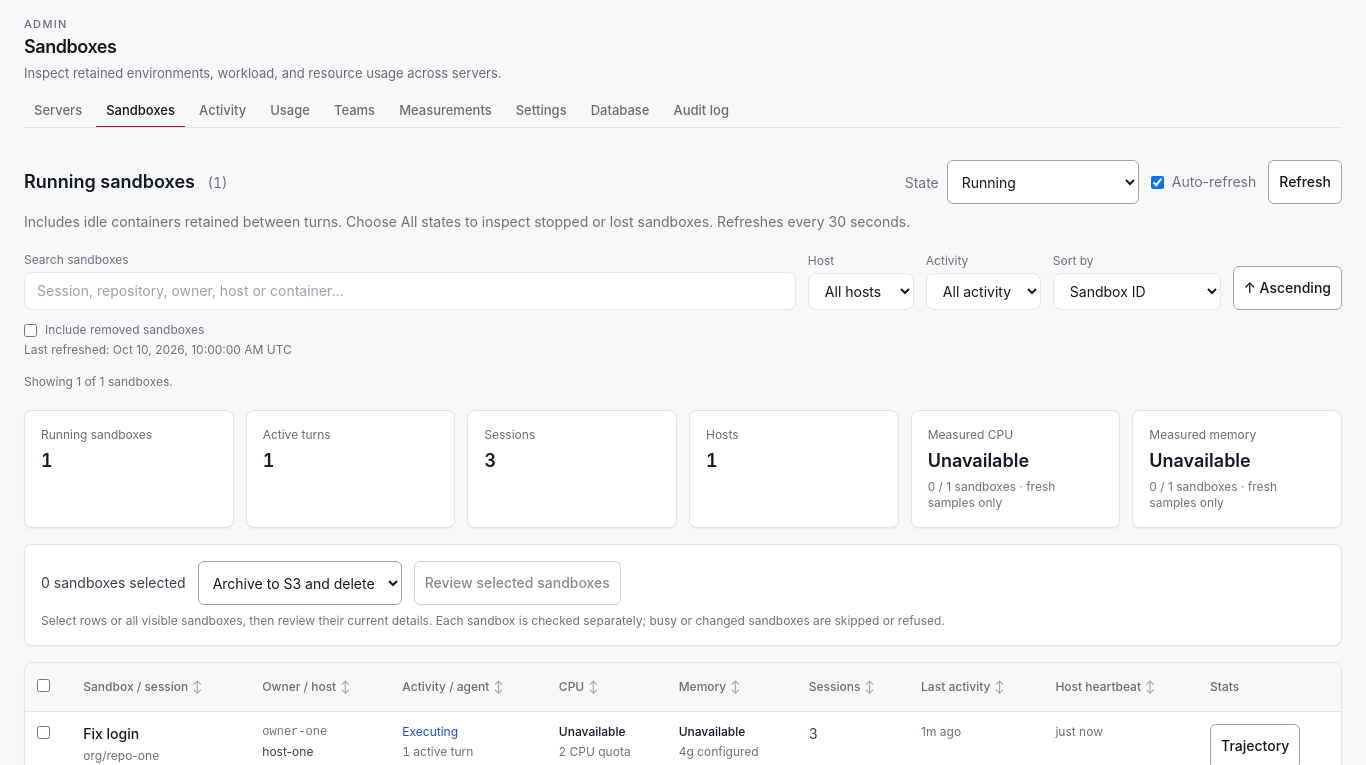
running sandbox inventory › loads all lifecycle states without carrying over the previous filter snapshot
Step 1. Select "All states" in the dropdown named "Sandbox state" → (1043, 182), box [947,160,1139,204]
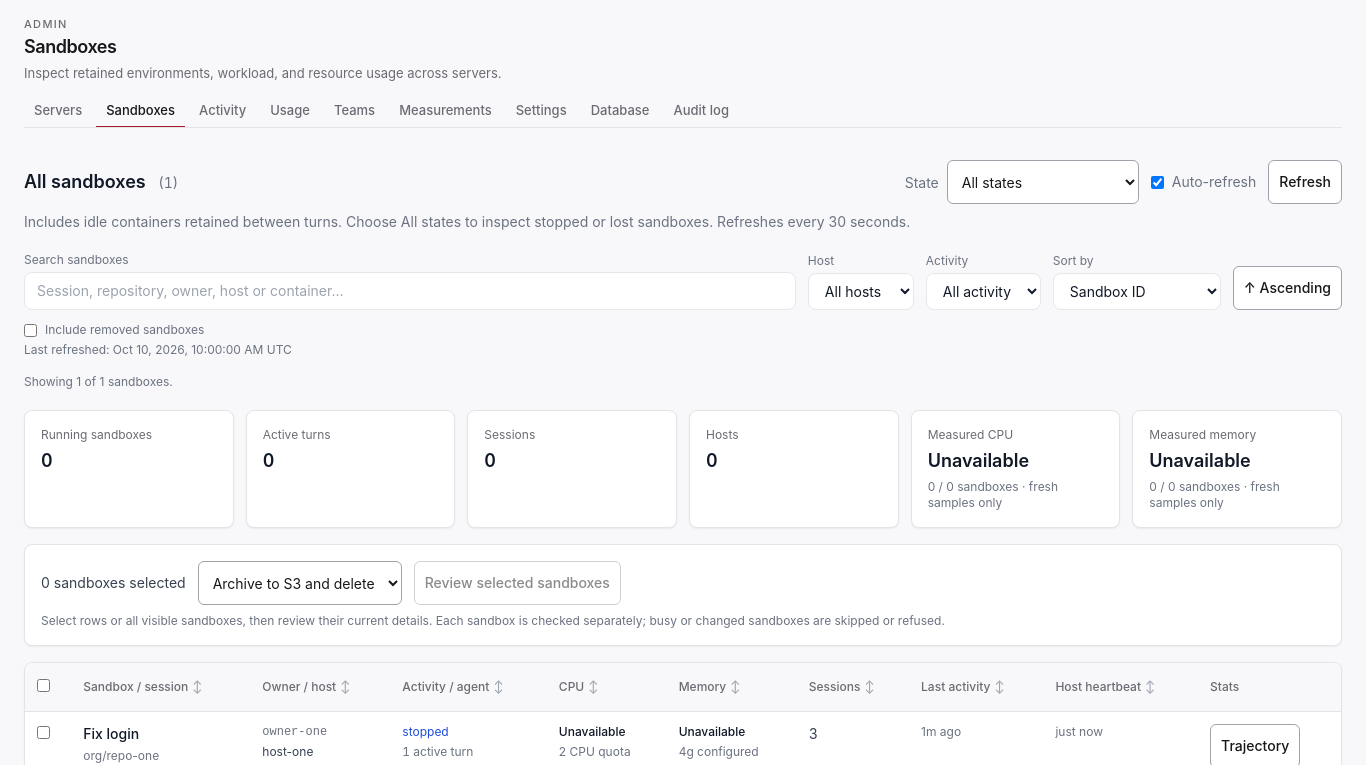
Check: the heading "All sandboxes (1)" is shown, box [24,168,178,196]
Check: the table shows "stopped", box [402,724,449,739]
Check: the text "0" below "Running sandboxes" is shown, box [41,450,53,471]
